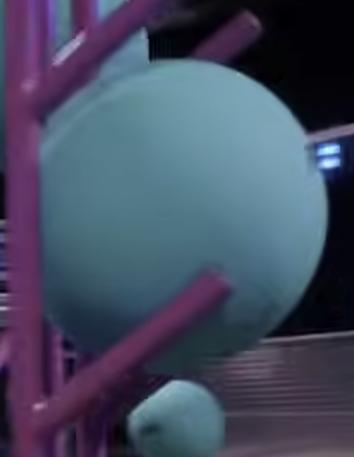algae: (38, 59, 328, 373), (0, 0, 147, 166), (127, 383, 225, 457)
